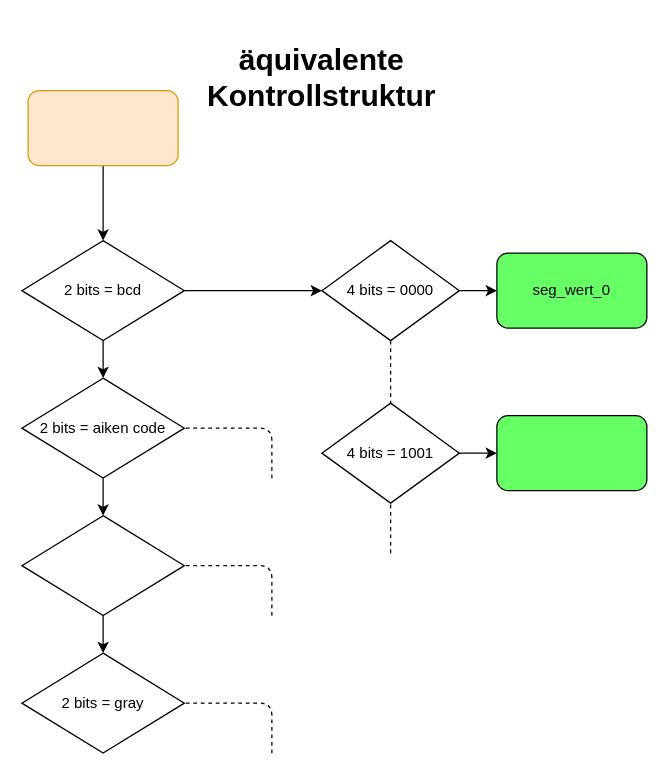
The diagram is 669 pixels wide and 776 high, and some of its shapes have lost their labels. Each missing label, with the centre of its shape:
"2 bits = excess 3" belongs at point (102, 565).
"Eingabe: 2 bits + 4 bits" belongs at point (102, 127).
"seg_wert_9" belongs at point (571, 452).
